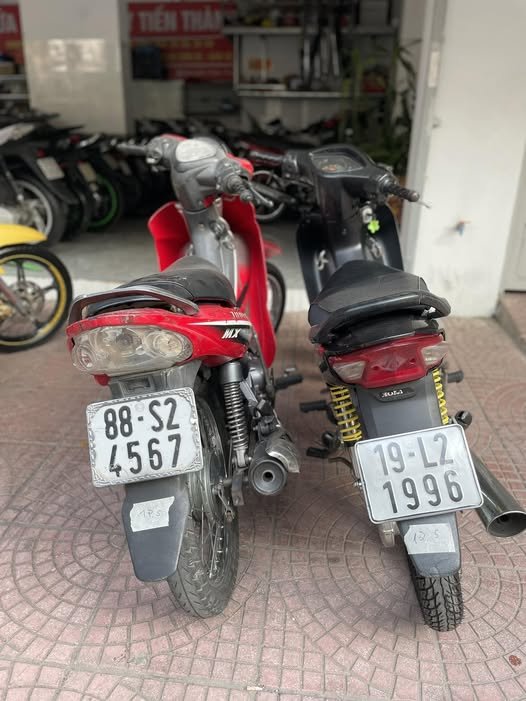bien_so: (71, 383, 212, 494), (347, 420, 490, 529)
